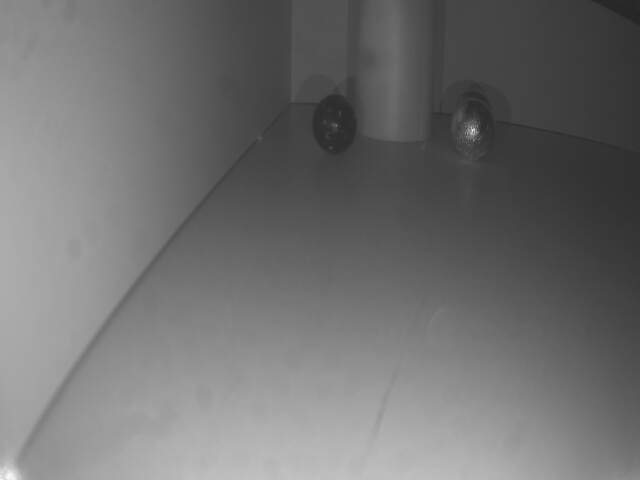Dead: (312, 93, 360, 159)
Live: (449, 97, 495, 164)
